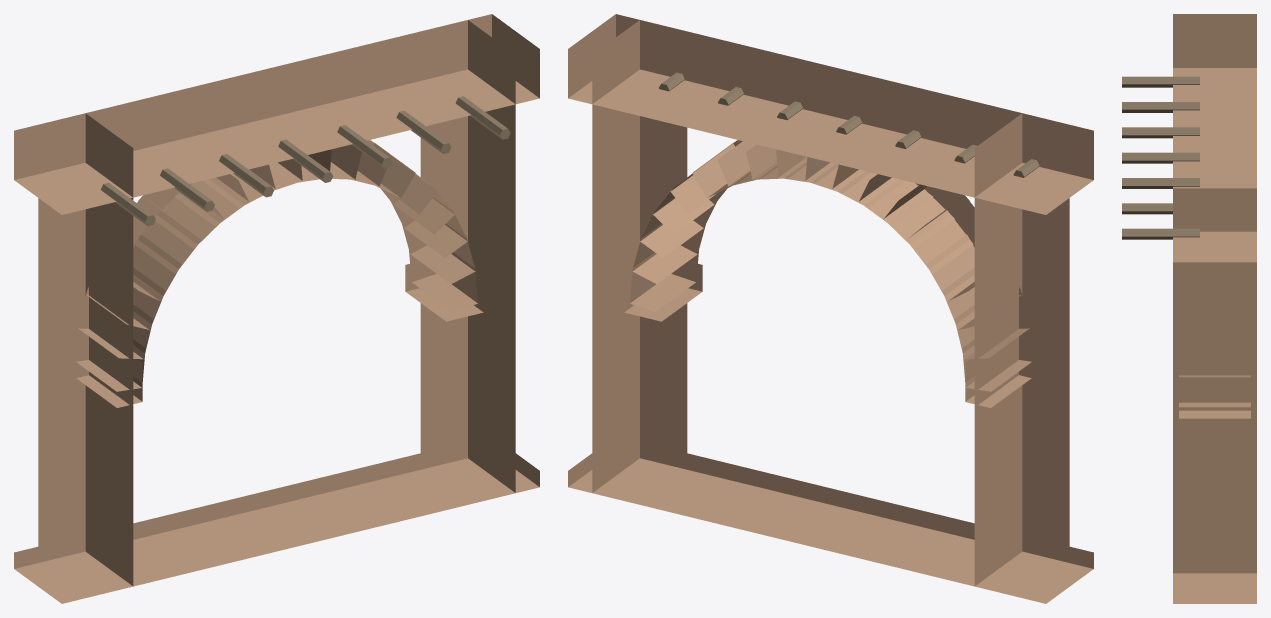
Rendered from earthen_rounded_portal.glb.
3 views of the same model, side by side, from view 1: azimuth 30°, elevation 25°; view 2: azimuth 150°, elevation 25°; view 3: azimuth 270°, elevation 25° (orthographic). The views are drawn at different scales.
Parts seen in each view (by area): view 1: earthen_rounded_portal; view 2: earthen_rounded_portal; view 3: earthen_rounded_portal.
Boxes of the visible parts, x1,y1,x2,y2 form: earthen_rounded_portal: [14, 14, 539, 603]; earthen_rounded_portal: [568, 14, 1093, 603]; earthen_rounded_portal: [1122, 14, 1256, 603].
Size of the model in its own units: 4.85 by 4.25 by 1.35.
